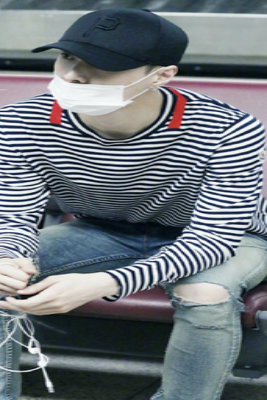mask_weared_incorrect: (53, 52, 145, 115)
